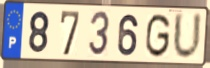3: (87, 9, 111, 59)
6: (117, 12, 140, 58)
7: (59, 9, 80, 57)
8: (27, 9, 51, 56)
G: (144, 12, 172, 60)
U: (172, 10, 203, 62)
